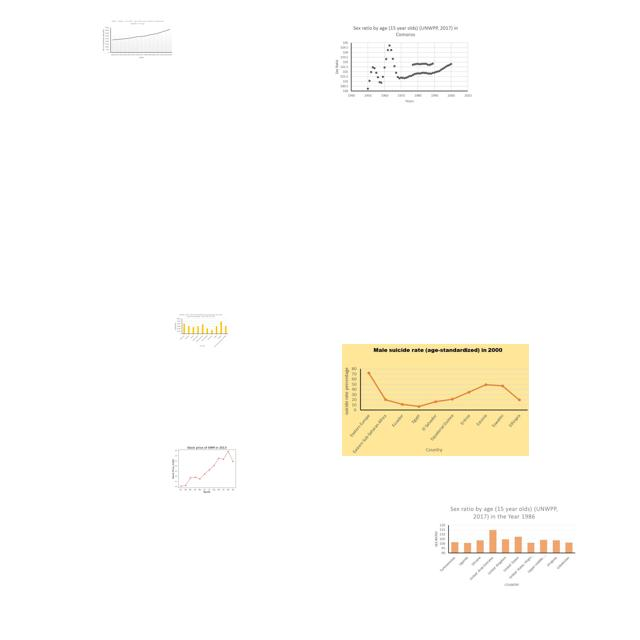Graph: (342, 344, 529, 456), (430, 503, 576, 587), (332, 24, 474, 105), (169, 443, 243, 494), (101, 19, 173, 60), (173, 313, 229, 347)
